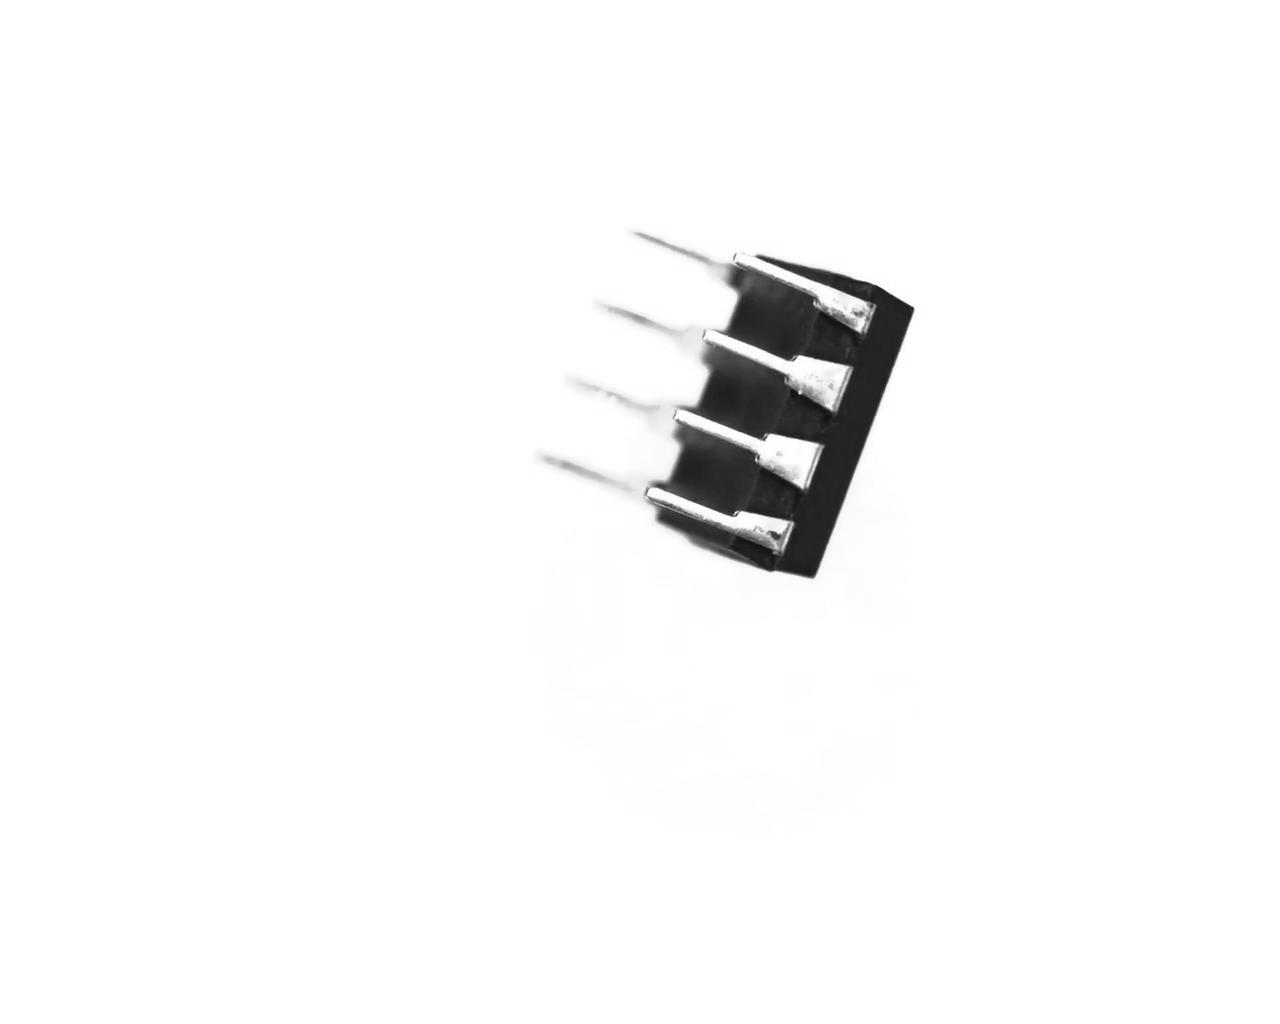Leg: (702, 316, 858, 423), (671, 396, 831, 493), (731, 237, 876, 335), (643, 486, 789, 580), (619, 218, 758, 297), (554, 360, 688, 437), (522, 444, 661, 517), (597, 292, 716, 370)
